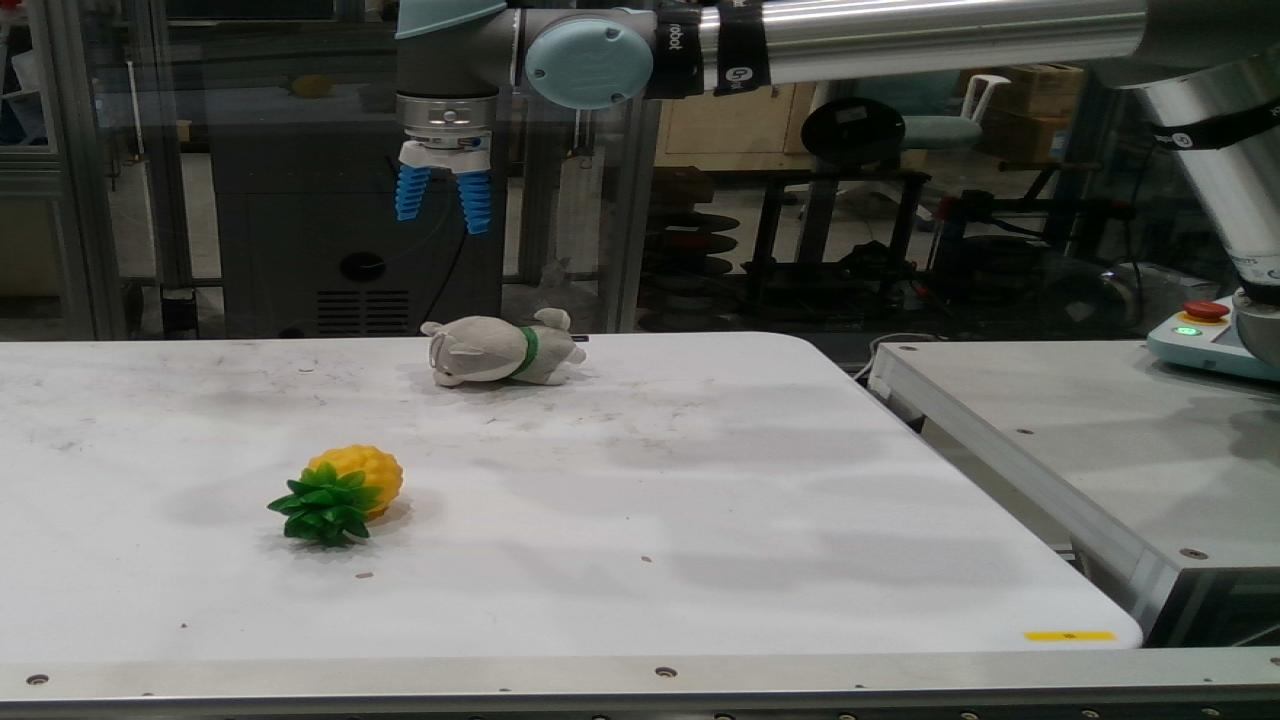UR5: (397, 0, 1279, 369)
gripper_left: (395, 163, 430, 219)
gripper_right: (455, 171, 490, 234)
target: (265, 444, 405, 547), (421, 308, 587, 388)
